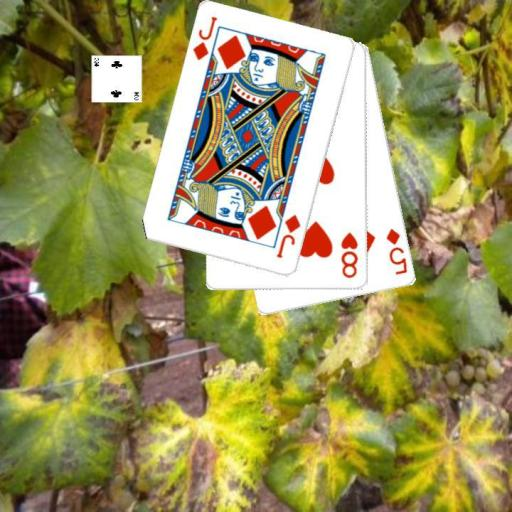5D: (383, 226, 410, 277)
8H: (338, 229, 361, 279)
JD: (273, 211, 303, 260), (190, 14, 219, 63)
